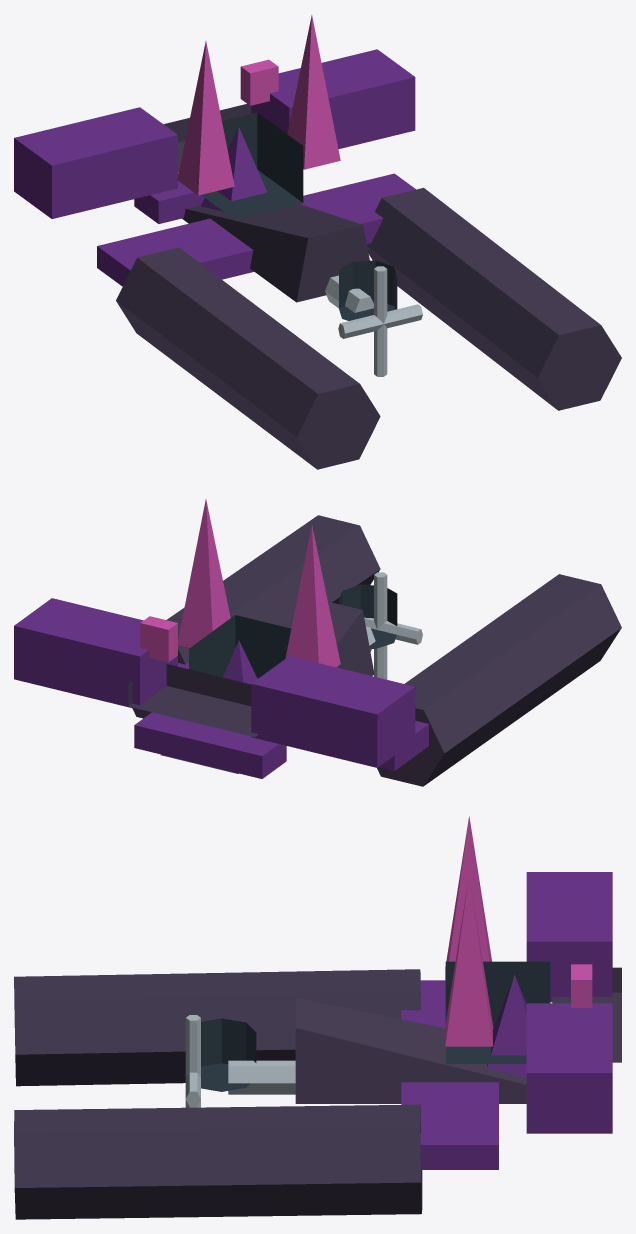
File: aerial-battleship.obj
The picture shows the model from 3 angles, top to bottom: view 1: azimuth 30°, elevation 25°; view 2: azimuth 150°, elevation 25°; view 3: azimuth 270°, elevation 25°; orthographic projection. The views are drawn at different scales.
Visible parts, largest first — view 1: air; view 2: air; view 3: air.
Part boxes in pixels (x1,y1,x2,y2): air: (14,15,621,469); air: (14,499,621,786); air: (14,816,621,1219).
Size of the model in its own units: 1.99 by 1.37 by 2.54.
